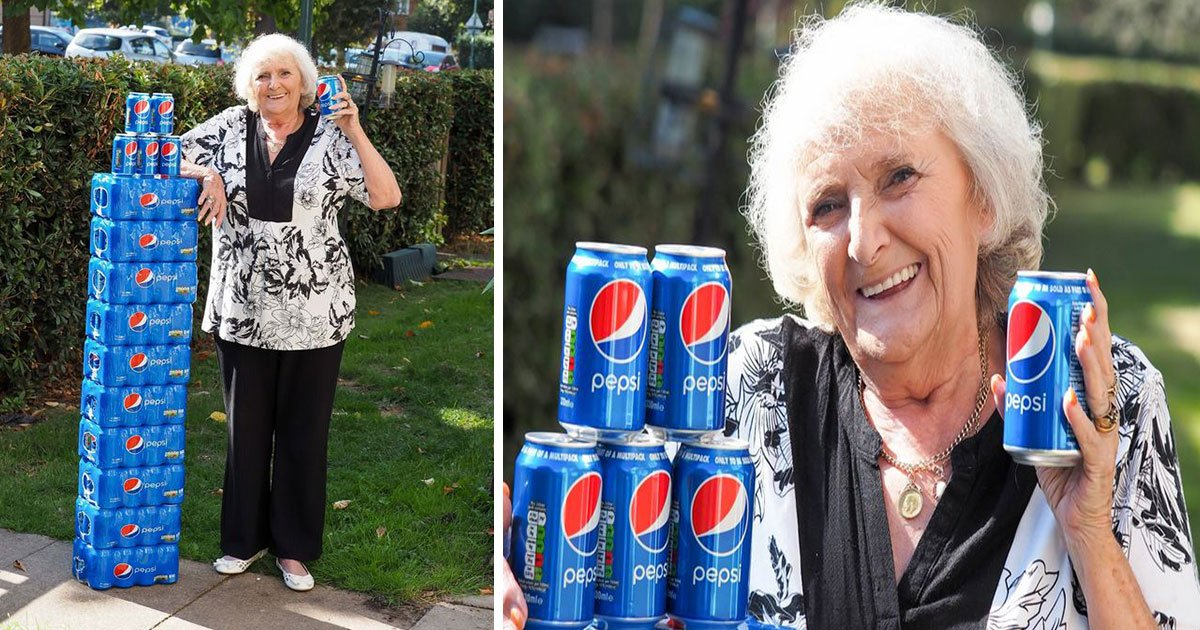pepsi: (589, 274, 649, 364), (691, 467, 750, 554), (589, 274, 649, 355), (677, 280, 730, 363), (1006, 299, 1056, 383), (559, 469, 600, 557), (629, 467, 668, 553), (134, 187, 158, 213), (127, 349, 151, 371), (135, 228, 160, 249), (133, 263, 153, 289), (122, 433, 144, 456), (127, 310, 148, 334), (122, 390, 141, 415), (118, 517, 139, 539), (124, 473, 143, 494), (111, 558, 132, 577), (157, 99, 174, 121), (133, 96, 148, 119), (313, 82, 332, 100)
